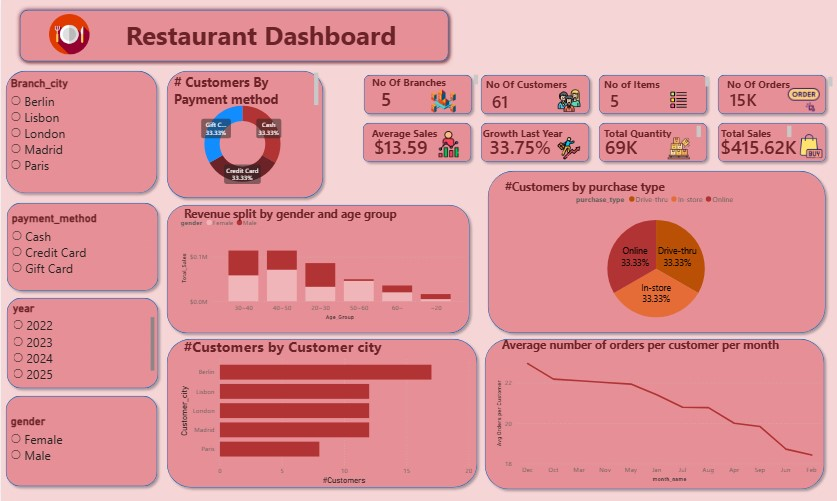

This screenshot's page, from the dashboard's own definition file:
{"tool":"powerbi","page":{"name":"Customer Analysis","canvas":[1550,950],"ordinal":2},"visuals":[{"type":"shape","box":[25.3,13.3,811.7,113.3],"z":0},{"type":"shape","box":[1.7,547,298.3,185.7],"z":0,"group":"g2"},{"type":"group","id":"g1","title":"Group 2","box":[0,729.3,298.3,185.7],"z":0,"group":"g8"},{"type":"shape","box":[662,133.1,218.4,90.8],"z":1000},{"type":"group","id":"g2","title":"Group 5","box":[1.7,547,298.3,185.7],"z":1000,"group":"g8"},{"type":"textbox","box":[225.3,30,811.7,150],"z":2000},{"type":"group","id":"g3","title":"Group 6","box":[1.7,371.5,298.3,180.6],"z":2000,"group":"g8"},{"type":"group","id":"g4","title":"Group 7","box":[0,126.7,298.3,244.8],"z":3000,"group":"g8"},{"type":"shape","box":[879.4,133.1,219.4,90.8],"z":3000},{"type":"image","box":[25.3,30,200,75],"z":4000},{"type":"shape","box":[1098.9,133.1,218.4,90.8],"z":5000},{"type":"shape","box":[1318.3,133.1,218.4,90.8],"z":6000},{"type":"group","id":"g5","title":"Group 3","box":[298.6,623.1,592.9,294],"z":7001,"group":"g6"},{"type":"cardVisual","fields":{"Data":["Dax_Measures.#branches"]},"box":[674.3,154.3,185.7,64.3],"z":9000},{"type":"listSlicer","fields":{"Values":["Dim_Dates.year"]},"box":[16.7,562.8,273.3,155.3],"z":10000,"group":"g2"},{"type":"textbox","box":[680.7,137.3,207.2,30.8],"z":11000},{"type":"group","id":"g6","title":"Group 2","box":[298.6,623.1,592.9,294],"z":12000},{"type":"textbox","box":[892.9,140,218.6,50],"z":14000},{"type":"group","id":"g7","title":"Group 4","box":[887.8,621.7,646.7,296.7],"z":15000},{"type":"cardVisual","fields":{"Data":["Dax_Measures.#Customers"]},"box":[880,157.1,217.1,64.3],"z":16000},{"type":"cardVisual","fields":{"Data":["Dax_Measures.#items"]},"box":[1098.2,133.1,218.6,106.9],"z":17000},{"type":"textbox","box":[1111.5,140.2,206.3,30.5],"z":18000},{"type":"textbox","box":[1338.7,140.2,206.5,30.9],"z":19000},{"type":"cardVisual","fields":{"Data":["Dax_Measures.#Orders"]},"box":[1320,151.4,218.6,67.1],"z":20000},{"type":"image","box":[770.7,165.8,97.6,47.5],"z":21000},{"type":"image","box":[1437,159.9,98.9,58.2],"z":22000},{"type":"image","box":[1019.3,168.2,66.4,42.7],"z":23000},{"type":"image","box":[1206.7,173,95,33.2],"z":24000},{"type":"shape","box":[880,222.4,218.6,90.2],"z":25000},{"type":"shape","box":[1098.7,222.8,218.6,90.2],"z":26000},{"type":"shape","box":[1318.6,222.4,218.6,90.2],"z":27000},{"type":"shape","box":[661.4,222.8,218.6,90.2],"z":28000},{"type":"cardVisual","fields":{"Data":["Dax_Measures.Avgerage_Sales","Dax_Measures.Growth_LY_%","Dax_Measures.Total_Quantity","Dax_Measures.Total_Sales"]},"box":[661.4,240,882.9,65.7],"z":29000},{"type":"textbox","box":[680.8,231.5,183.1,41.7],"z":30000},{"type":"shape","box":[887.8,621.7,646.7,296.7],"z":30000,"group":"g7"},{"type":"textbox","box":[887.1,231.4,191.4,61.4],"z":31000},{"type":"lineChart","fields":{"Y":["Dax_Measures.Avg Orders per Customer"],"Category":["Dim_Dates.month_name"]},"box":[911,660.8,614.4,240.2],"z":31000,"group":"g7"},{"type":"textbox","box":[1111.7,231.7,190,33.3],"z":32000},{"type":"textbox","box":[1327.7,231.1,140.5,33.2],"z":33000},{"type":"image","box":[1215.8,257.3,76.8,41.6],"z":34000},{"type":"shape","box":[298.6,623.9,592.9,293.2],"z":34000,"group":"g5"},{"type":"image","box":[1460.4,251.3,75.5,45.1],"z":35000},{"type":"textbox","box":[922.2,622.4,598,52],"z":35000,"group":"g7"},{"type":"clusteredBarChart","fields":{"Category":["Dim_Customer.Customer_city"],"Y":["Dax_Measures.#Customers"]},"box":[327,652.7,552.4,254.5],"z":35000,"group":"g5"},{"type":"image","box":[1019.3,257.3,66.4,41.6],"z":36000},{"type":"shape","box":[298.3,126.7,307.4,253.3],"z":37000},{"type":"image","box":[784.3,245.7,87.1,48.6],"z":38000},{"type":"donutChart","fields":{"Y":["CountNonNull(Dim_Customer.customer_id)"],"Category":["Fact_Order.payment_method"]},"box":[312.8,167.2,268.3,206.7],"z":39000},{"type":"textbox","box":[314.4,133.9,278.3,71.7],"z":40000},{"type":"textbox","box":[333.5,623.1,528,48],"z":40000,"group":"g5"},{"type":"shape","box":[298.6,374.3,578.6,255.7],"z":41000},{"type":"lineStackedColumnComboChart","fields":{"Category":["Dim_Customer.Age_Group"],"Series":["Dim_Customer.gender"],"Y":["Dax_Measures.Total_Sales"]},"box":[328.6,397.1,540,204.3],"z":42000},{"type":"textbox","box":[328,380,520,52],"z":43000},{"type":"shape","box":[0,126.7,298.3,244.8],"z":44000,"group":"g4"},{"type":"shape","box":[891.7,311.7,643.3,318.3],"z":44000},{"type":"listSlicer","fields":{"Values":["Dim_Branches.Branch_city"]},"box":[13.3,147,273.3,199.2],"z":45000,"group":"g4"},{"type":"pieChart","fields":{"Category":["Fact_Order.purchase_type"],"Y":["Dax_Measures.#Customers"]},"box":[912,352,604,270],"z":45000},{"type":"textbox","box":[922,330,516,50],"z":46000},{"type":"shape","box":[1.7,371.5,298.3,180.6],"z":46000,"group":"g3"},{"type":"group","id":"g8","title":"Group 8","box":[0,126.7,300,788.3],"z":46001},{"type":"shape","box":[0,729.3,298.3,185.7],"z":47000,"group":"g1"},{"type":"listSlicer","fields":{"Values":["Fact_Order.payment_method"]},"box":[15,396.8,273.3,133.4],"z":48000,"group":"g3"},{"type":"listSlicer","fields":{"Values":["Dim_Customer.gender"]},"box":[13.3,773.8,273.3,104.7],"z":49000,"group":"g1"}]}

Visuals, with their boxes in screenshot pixels (x1, y1, x2, y2), scaled from the page's 1550x950 canvas onto the 837x501 screenshot:
shape: <region>14, 7, 452, 67</region>
shape: <region>1, 288, 162, 386</region>
"Group 2" group: <region>0, 385, 161, 483</region>
shape: <region>357, 70, 475, 118</region>
"Group 5" group: <region>1, 288, 162, 386</region>
textbox: <region>122, 16, 560, 95</region>
"Group 6" group: <region>1, 196, 162, 291</region>
"Group 7" group: <region>0, 67, 161, 196</region>
shape: <region>475, 70, 593, 118</region>
image: <region>14, 16, 122, 55</region>
shape: <region>593, 70, 711, 118</region>
shape: <region>712, 70, 830, 118</region>
"Group 3" group: <region>161, 329, 481, 484</region>
cardVisual - Dax_Measures.#branches: <region>364, 81, 464, 115</region>
listSlicer - Dim_Dates.year: <region>9, 297, 157, 379</region>
textbox: <region>368, 72, 479, 89</region>
"Group 2" group: <region>161, 329, 481, 484</region>
textbox: <region>482, 74, 600, 100</region>
"Group 4" group: <region>479, 328, 829, 484</region>
cardVisual - Dax_Measures.#Customers: <region>475, 83, 592, 117</region>
cardVisual - Dax_Measures.#items: <region>593, 70, 711, 127</region>
textbox: <region>600, 74, 712, 90</region>
textbox: <region>723, 74, 834, 90</region>
cardVisual - Dax_Measures.#Orders: <region>713, 80, 831, 115</region>
image: <region>416, 87, 469, 112</region>
image: <region>776, 84, 829, 115</region>
image: <region>550, 89, 586, 111</region>
image: <region>652, 91, 703, 109</region>
shape: <region>475, 117, 593, 165</region>
shape: <region>593, 117, 711, 165</region>
shape: <region>712, 117, 830, 165</region>
shape: <region>357, 117, 475, 165</region>
cardVisual - Dax_Measures.Avgerage_Sales x Dax_Measures.Growth_LY_%: <region>357, 127, 834, 161</region>
textbox: <region>368, 122, 467, 144</region>
shape: <region>479, 328, 829, 484</region>
textbox: <region>479, 122, 582, 154</region>
lineChart - Dax_Measures.Avg Orders per Customer x Dim_Dates.month_name: <region>492, 348, 824, 475</region>
textbox: <region>600, 122, 703, 140</region>
textbox: <region>717, 122, 793, 139</region>
image: <region>657, 136, 698, 158</region>
shape: <region>161, 329, 481, 484</region>
image: <region>789, 133, 829, 156</region>
textbox: <region>498, 328, 821, 356</region>
clusteredBarChart - Dim_Customer.Customer_city x Dax_Measures.#Customers: <region>177, 344, 475, 478</region>
image: <region>550, 136, 586, 158</region>
shape: <region>161, 67, 327, 200</region>
image: <region>424, 130, 471, 155</region>
donutChart - CountNonNull(Dim_Customer.customer_id) x Fact_Order.payment_method: <region>169, 88, 314, 197</region>
textbox: <region>170, 71, 320, 108</region>
textbox: <region>180, 329, 465, 354</region>
shape: <region>161, 197, 474, 332</region>
lineStackedColumnComboChart - Dim_Customer.Age_Group x Dim_Customer.gender: <region>177, 209, 469, 317</region>
textbox: <region>177, 200, 458, 228</region>
shape: <region>0, 67, 161, 196</region>
shape: <region>482, 164, 829, 332</region>
listSlicer - Dim_Branches.Branch_city: <region>7, 78, 155, 183</region>
pieChart - Fact_Order.purchase_type x Dax_Measures.#Customers: <region>492, 186, 819, 328</region>
textbox: <region>498, 174, 777, 200</region>
shape: <region>1, 196, 162, 291</region>
"Group 8" group: <region>0, 67, 162, 483</region>
shape: <region>0, 385, 161, 483</region>
listSlicer - Fact_Order.payment_method: <region>8, 209, 156, 280</region>
listSlicer - Dim_Customer.gender: <region>7, 408, 155, 463</region>
